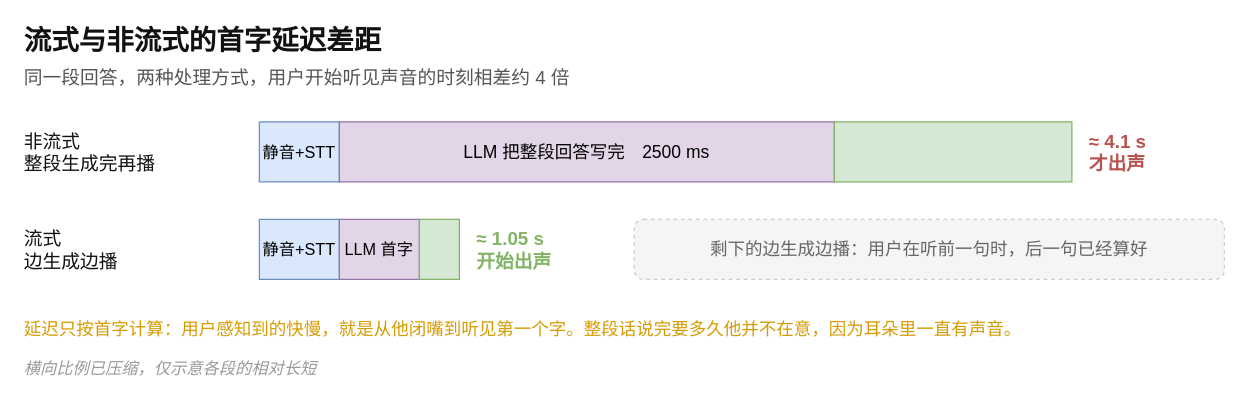
Image size: 1246x403. Some labels were removed from this diagram. Here are the shapes that lost their labels. From the top down, the centre of each, then its label:
At (952,151): "TTS 把整段合完 1200 ms".
At (438,248): "TTS".
